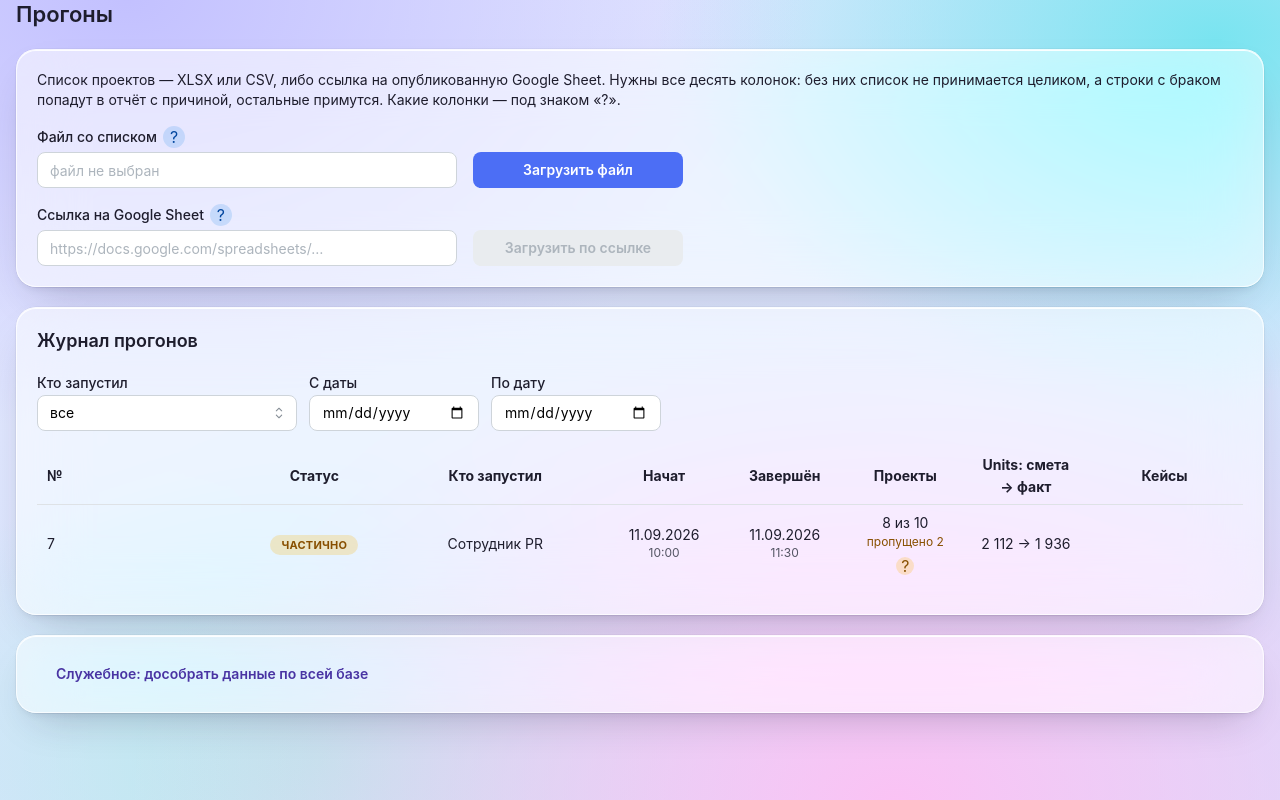
Test case: пропуски прогона › E1: «пропущено 2» раскрывается в домены с причинами
Click the button named "почему пропущены" at (905, 566), box [896,557,914,575]
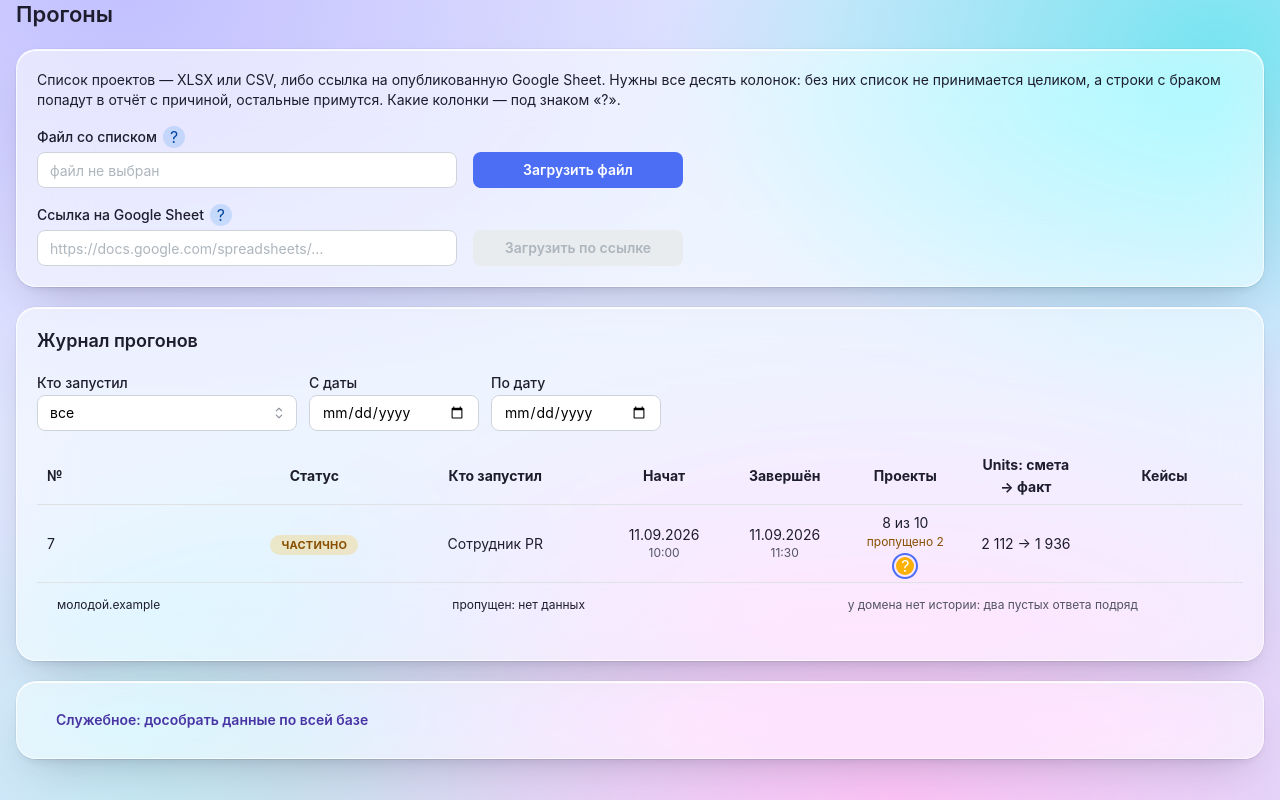
Result: the text "молодой.example" is shown at [57,597,160,612]
Result: the text "пропущен: нет данных" is shown at [452,597,585,612]
Result: the text "у домена нет истории: два пустых ответа подряд" is shown at [848,597,1138,612]
